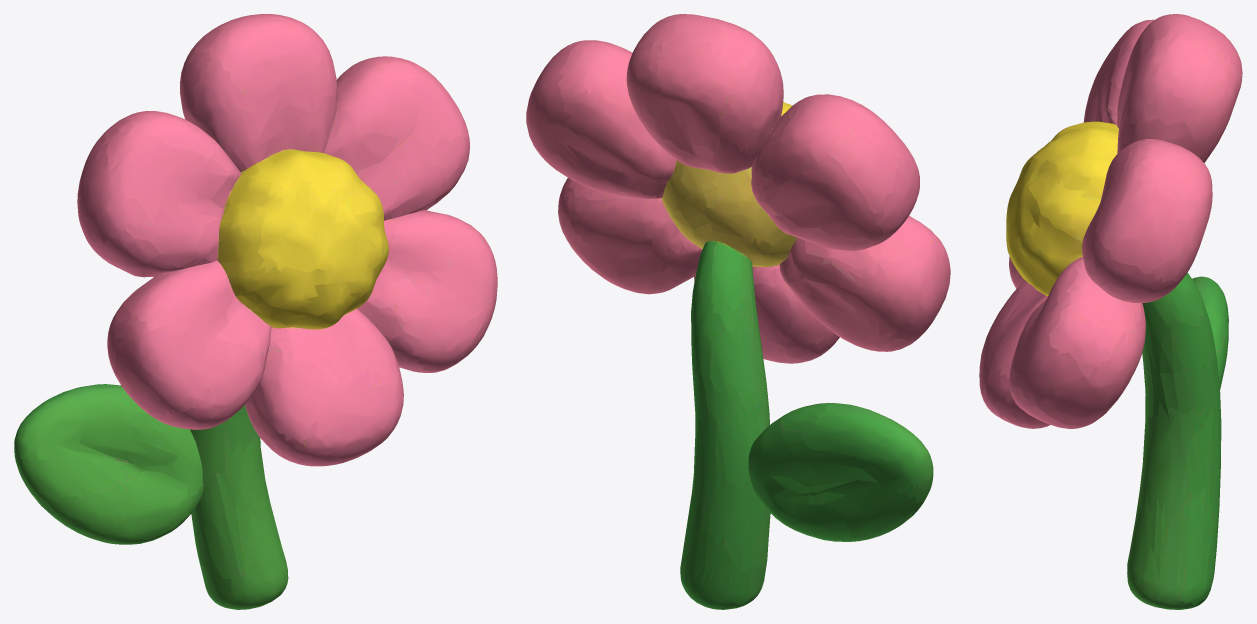
The model's file is bloem.glb.
The picture shows the model from 3 angles, left to right: view 1: azimuth 30°, elevation 25°; view 2: azimuth 150°, elevation 25°; view 3: azimuth 270°, elevation 25°; orthographic projection.
Parts seen in each view (by area): view 1: Mesh_0; view 2: Mesh_0; view 3: Mesh_0.
Boxes of the visible parts, x1=… form: Mesh_0: x1=14, y1=14, x2=497, y2=609; Mesh_0: x1=526, y1=14, x2=950, y2=609; Mesh_0: x1=979, y1=14, x2=1242, y2=609.
Size of the model in its own units: 1.43 by 1.9 by 0.7706.
Materials: 1 (1 with a texture image).
